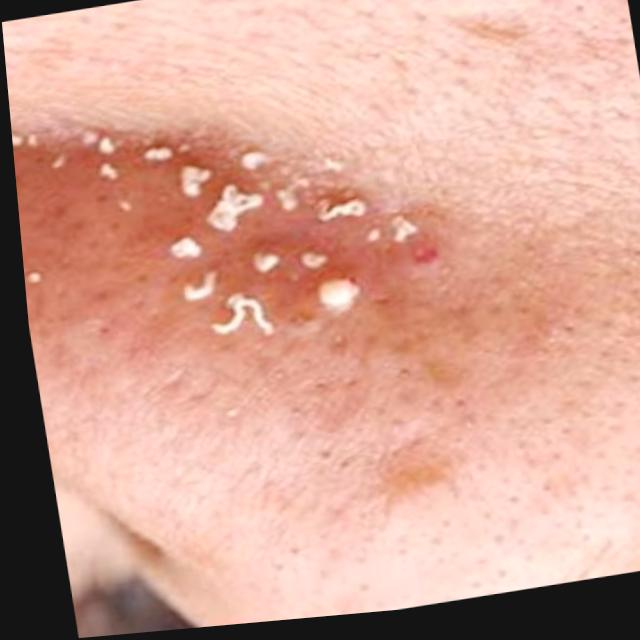whitehead: (6, 86, 465, 381)
